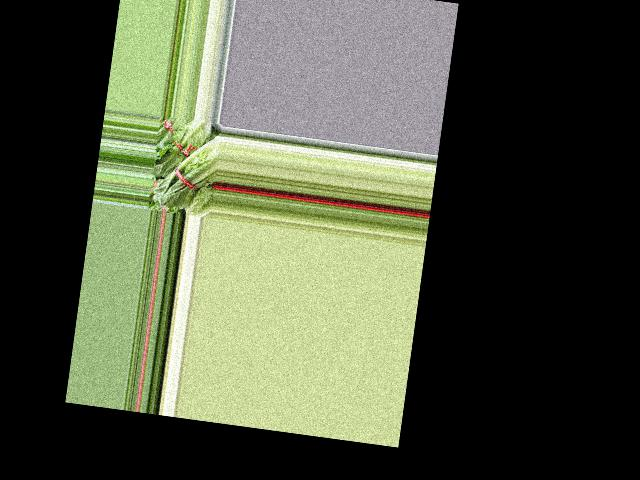lettuce: (151, 129, 221, 214)
